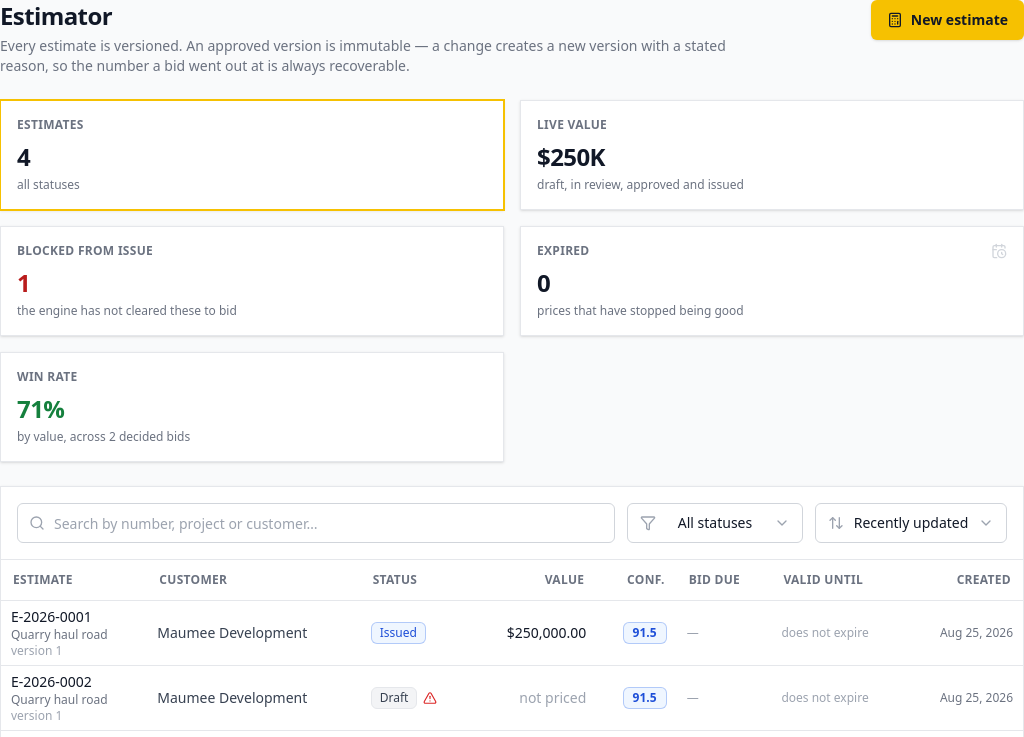
the estimating screen › the boxes across the top › shows the estimates a tile counts when the tile is clicked
Expected: the link "E-2026-0001" is shown, [11, 606, 92, 626]
Click the button with aria-label "show the estimates the engine has blocked" at (85, 250), box [0, 226, 504, 336]
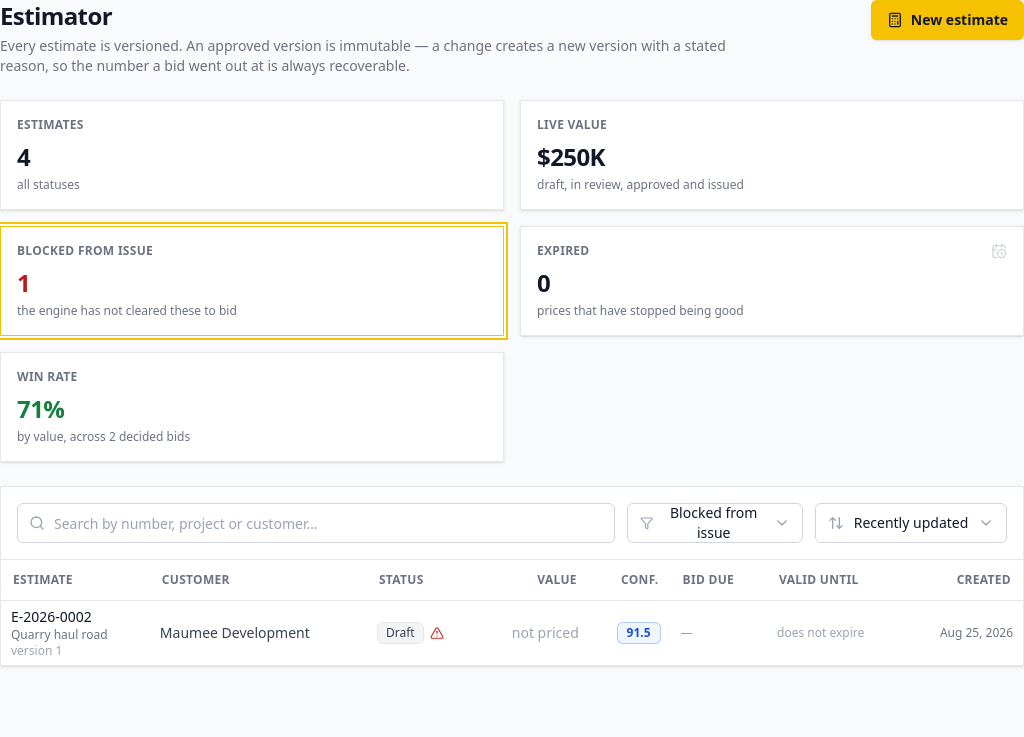
Expected: the link "E-2026-0002" is shown, [11, 606, 92, 626]
Result: the link "E-2026-0001" is gone
